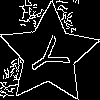Y: (24, 29, 79, 83)
